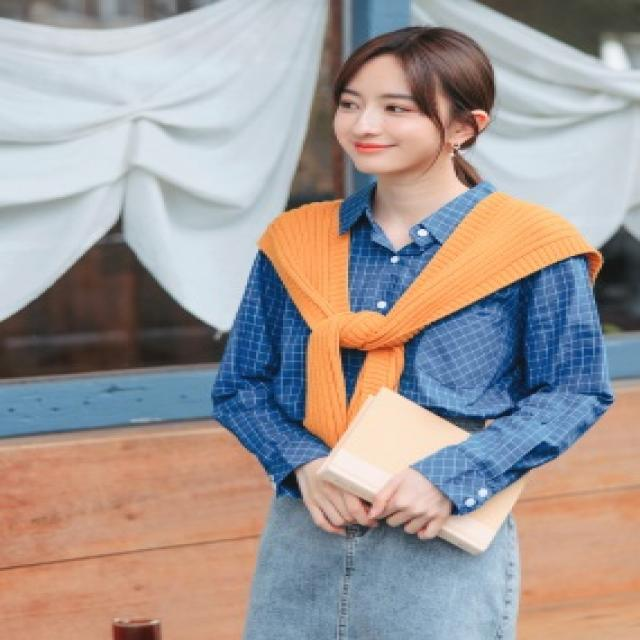plaid: (201, 193, 621, 507)
